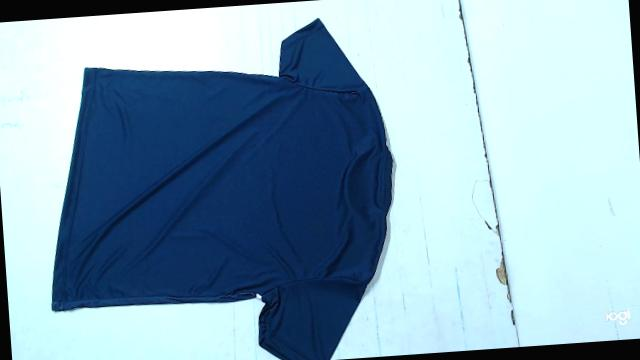new-garment: (52, 19, 392, 360)
